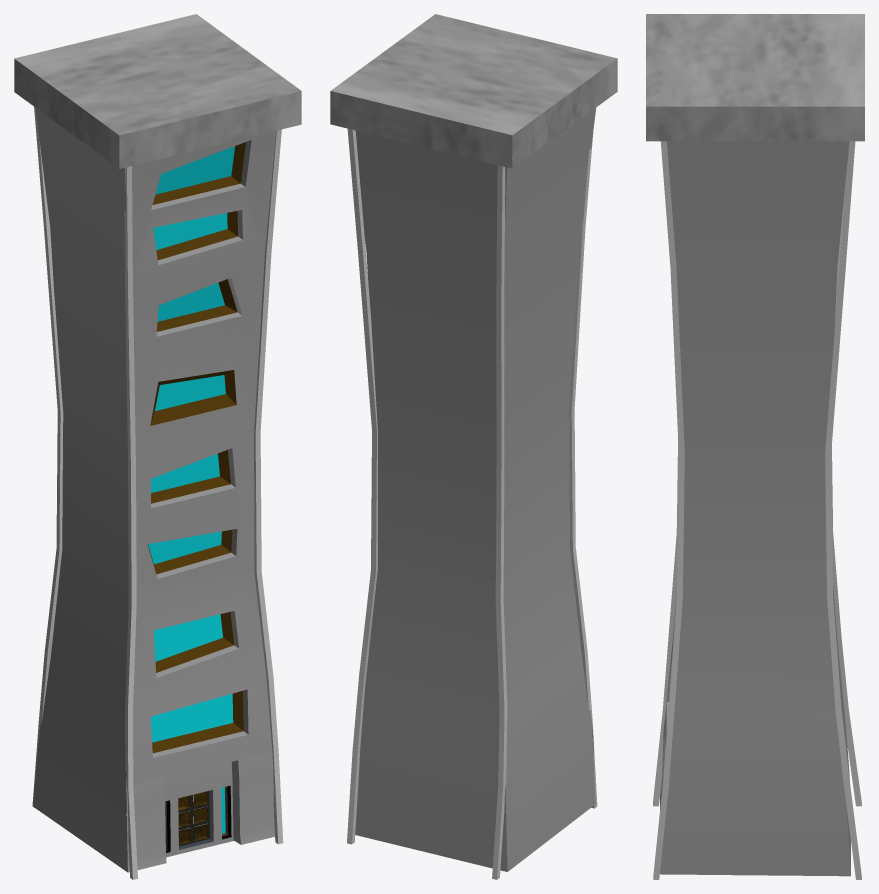
File: PredioAltoFino-CinzaClaroLOD0.fbx
3 views of the same model, side by side, from view 1: azimuth 30°, elevation 25°; view 2: azimuth 150°, elevation 25°; view 3: azimuth 270°, elevation 25° (orthographic). The views are drawn at different scales.
Visible parts, largest first — view 1: PredioAltoFinoLOD0; view 2: PredioAltoFinoLOD0; view 3: PredioAltoFinoLOD0.
Boxes of the visible parts, x1,y1,x2,y2 form: PredioAltoFinoLOD0: (14, 14, 301, 879); PredioAltoFinoLOD0: (330, 14, 617, 879); PredioAltoFinoLOD0: (646, 14, 864, 879).
Bounding box in the file's own units: 635 × 2498 × 635.
